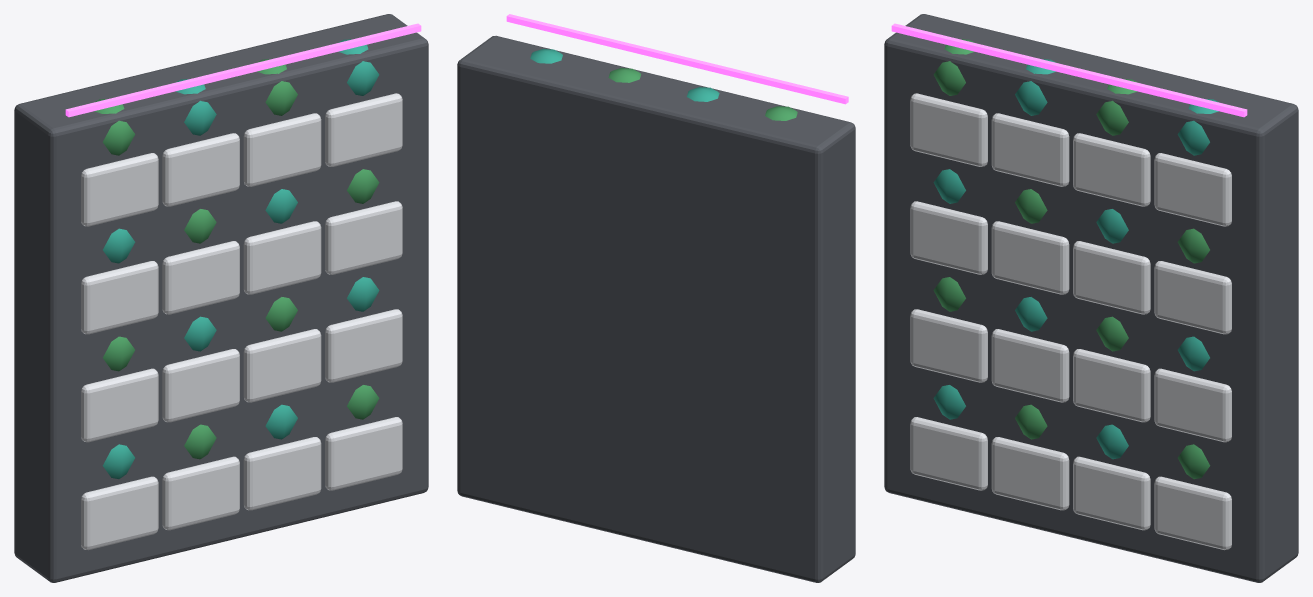
File: hydroponic_bed_herb_wall.glb
3 views of the same model, side by side, from view 1: azimuth 30°, elevation 25°; view 2: azimuth 150°, elevation 25°; view 3: azimuth 330°, elevation 25° (orthographic). The views are drawn at different scales.
Visible parts, largest first — view 1: GD_hydroponic_bed_herb_wall__m0, GD_hydroponic_bed_herb_wall__m1, GD_hydroponic_bed_herb_wall__m3, GD_hydroponic_bed_herb_wall__m2, GD_hydroponic_bed_herb_wall__m4; view 2: GD_hydroponic_bed_herb_wall__m0, GD_hydroponic_bed_herb_wall__m4, GD_hydroponic_bed_herb_wall__m2, GD_hydroponic_bed_herb_wall__m3; view 3: GD_hydroponic_bed_herb_wall__m0, GD_hydroponic_bed_herb_wall__m1, GD_hydroponic_bed_herb_wall__m2, GD_hydroponic_bed_herb_wall__m3, GD_hydroponic_bed_herb_wall__m4.
Part boxes in pixels (x1,y1,x2,y2): GD_hydroponic_bed_herb_wall__m0: (14,14,428,582); GD_hydroponic_bed_herb_wall__m1: (81,93,402,550); GD_hydroponic_bed_herb_wall__m3: (102,39,379,479); GD_hydroponic_bed_herb_wall__m2: (94,59,379,459); GD_hydroponic_bed_herb_wall__m4: (65,23,421,117); GD_hydroponic_bed_herb_wall__m0: (457,35,855,582); GD_hydroponic_bed_herb_wall__m4: (506,14,848,104); GD_hydroponic_bed_herb_wall__m2: (608,68,797,120); GD_hydroponic_bed_herb_wall__m3: (530,49,719,101); GD_hydroponic_bed_herb_wall__m0: (884,14,1298,582); GD_hydroponic_bed_herb_wall__m1: (910,93,1231,550); GD_hydroponic_bed_herb_wall__m2: (933,39,1210,479); GD_hydroponic_bed_herb_wall__m3: (933,59,1218,459); GD_hydroponic_bed_herb_wall__m4: (891,23,1247,117).
Size of the model in its own units: 1.4 by 1.67 by 0.275.
